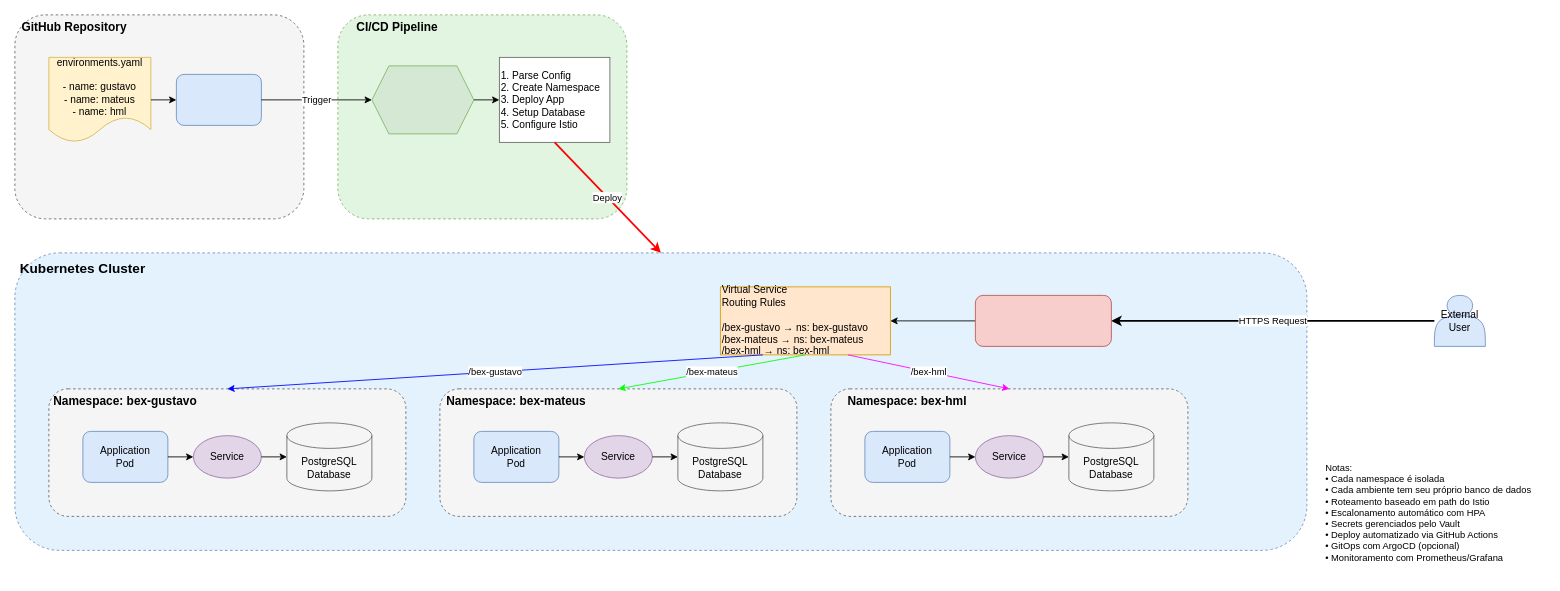
Image size: 1560x591. Some labels were removed from this diagram. The shapes that lost their labels are listed below. From the top down, each one's centre as x and y in pixels, then its label:
(x=218, y=99): Backstage Catalog
(x=422, y=99): GitHub Actions Workflow
(x=1043, y=320): Istio Ingress Gateway
